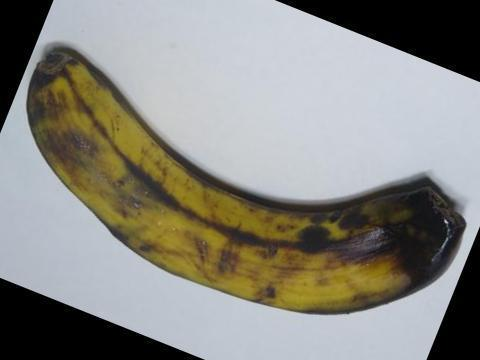overripe: (19, 42, 467, 334)
rotten: (349, 160, 466, 298)
